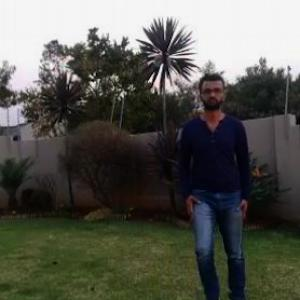follow: (170, 55, 259, 299)
